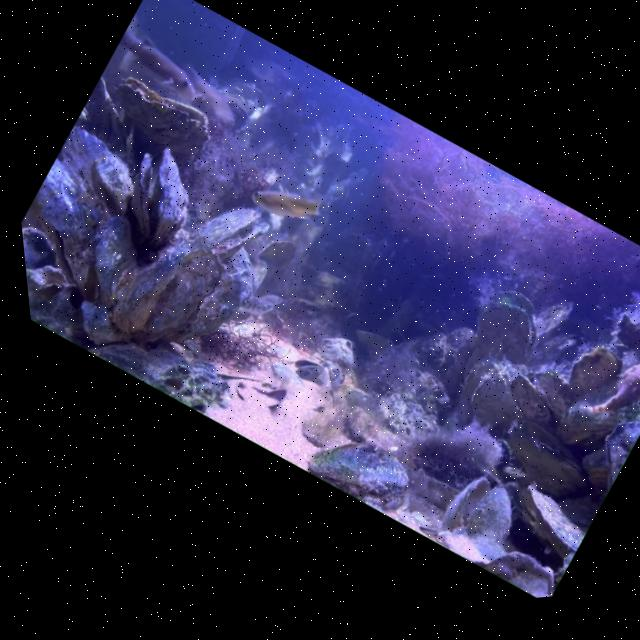Oyster-Closed: (544, 332, 640, 477), (134, 237, 238, 354), (98, 224, 200, 341), (104, 63, 221, 162), (488, 417, 601, 519), (501, 477, 599, 569), (66, 72, 159, 165), (554, 333, 634, 415)
Oyster-Indeterminate: (16, 151, 152, 307), (176, 239, 280, 357), (61, 206, 162, 316), (72, 143, 151, 222), (494, 366, 569, 437), (21, 216, 70, 308), (525, 289, 582, 352)
Oyster-Open: (97, 134, 220, 263), (428, 463, 534, 569), (184, 184, 280, 280), (459, 274, 547, 366), (182, 70, 261, 142), (288, 351, 332, 391)
